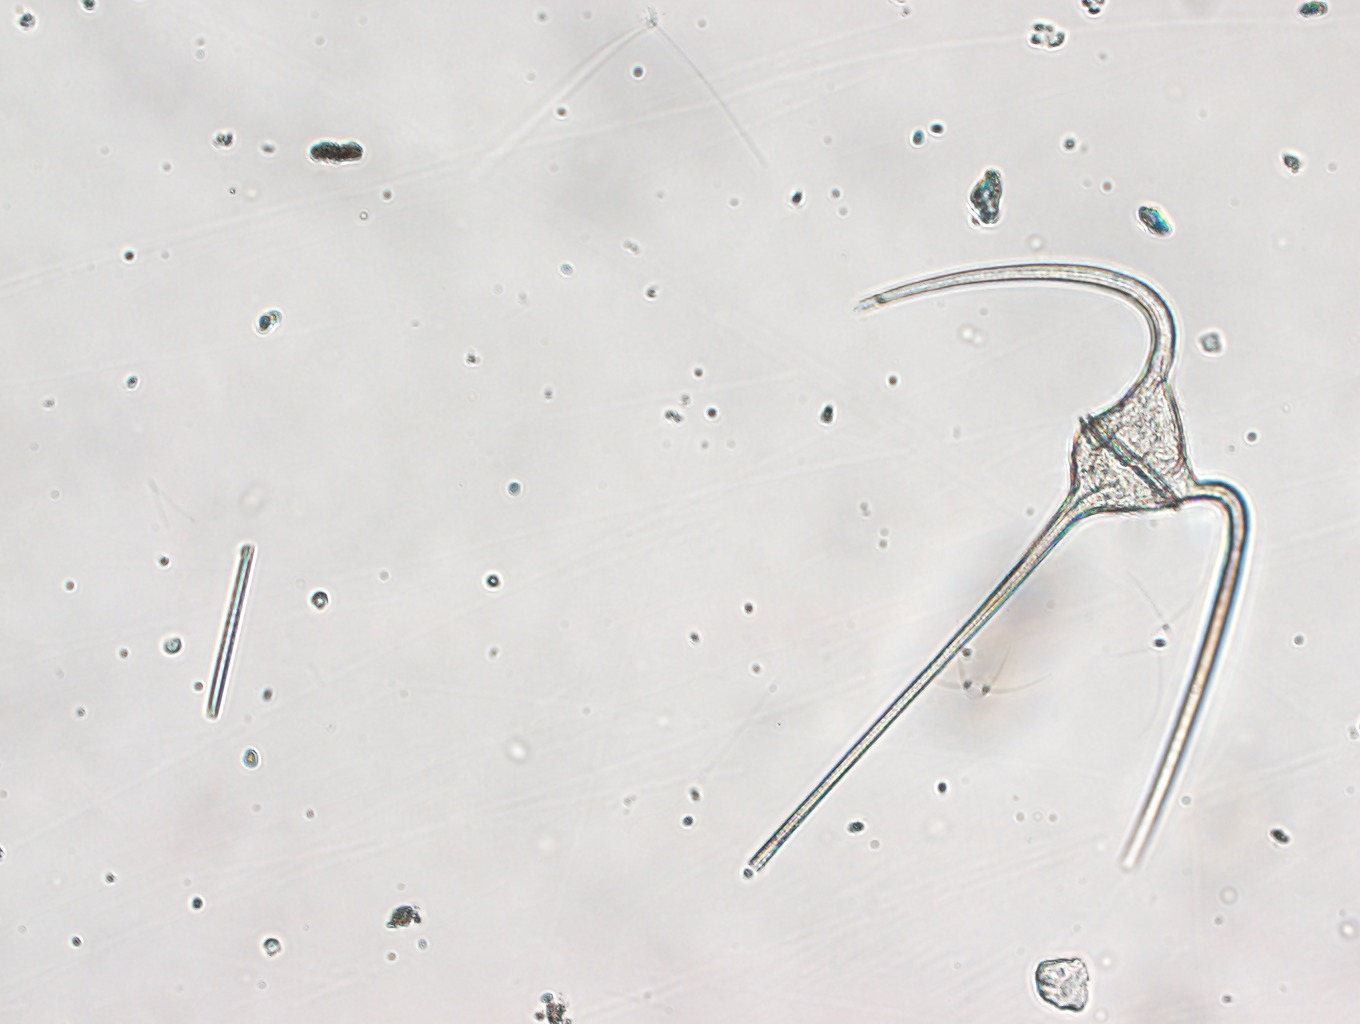ceratium trichoceros: (706, 251, 1252, 873)
